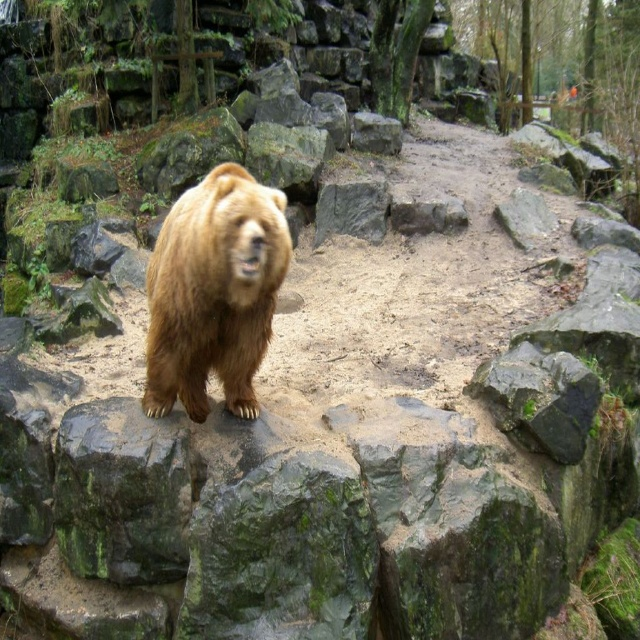Brown bear: (140, 157, 291, 422)
